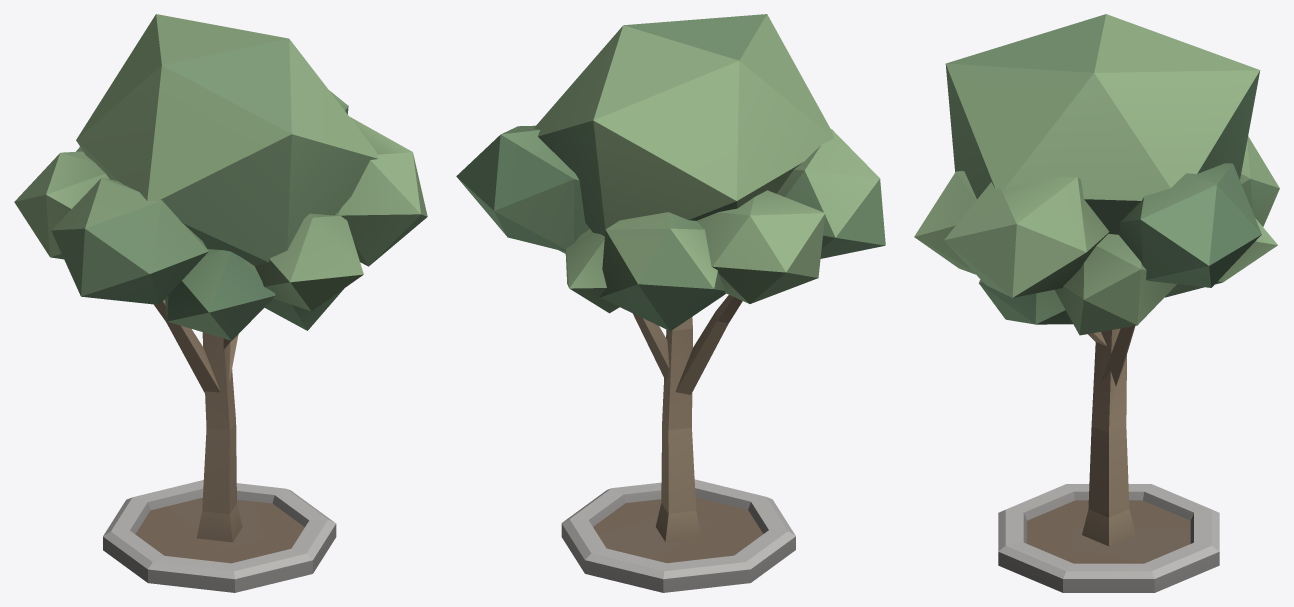
The model's file is tree2.lod1.glb.
3 renders of one model, left to right at view 1: azimuth 30°, elevation 25°; view 2: azimuth 150°, elevation 25°; view 3: azimuth 270°, elevation 25°, orthographic.
Bounding box in the file's own units: 3.96 × 5.43 × 3.57.
